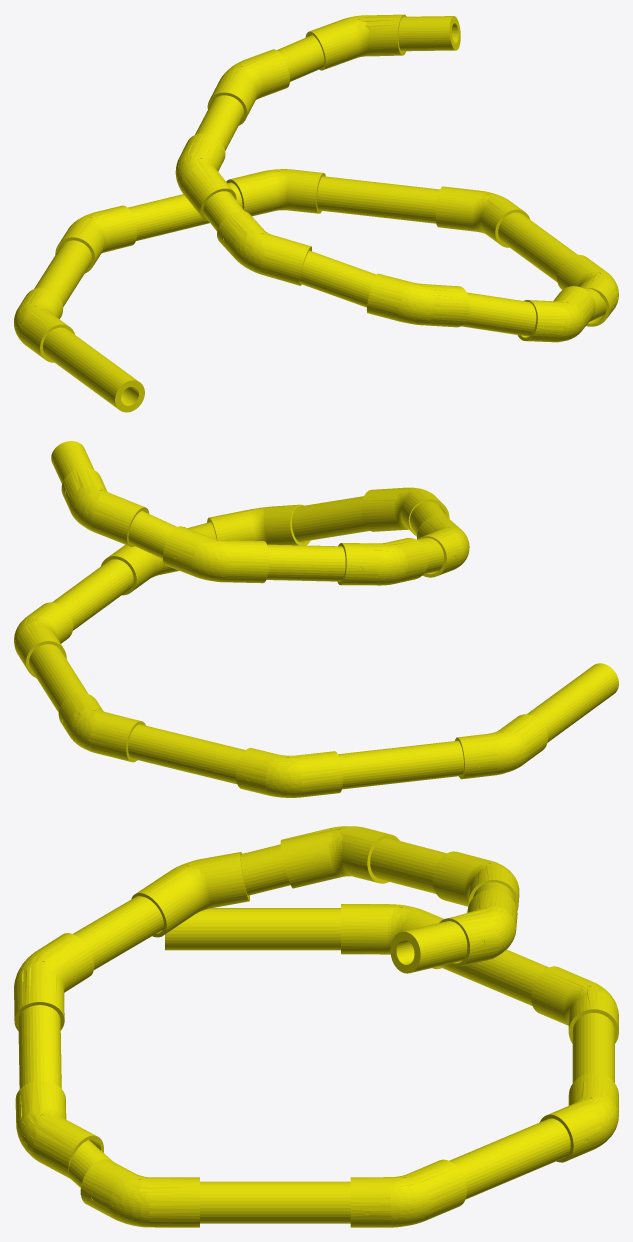
File: nautilus_assembly.dae
3 renders of one model, top to bottom at view 1: azimuth 30°, elevation 25°; view 2: azimuth 150°, elevation 25°; view 3: azimuth 270°, elevation 25°, orthographic. The views are drawn at different scales.
Visible parts, largest first — view 1: nautilus_assembly; view 2: nautilus_assembly; view 3: nautilus_assembly.
Boxes of the visible parts, left/top/right/bottom form: nautilus_assembly: left=14, top=14, right=618, bottom=412; nautilus_assembly: left=14, top=441, right=618, bottom=797; nautilus_assembly: left=14, top=826, right=618, bottom=1227.
Size of the model in its own units: 0.2519 by 0.2186 by 0.1078.
